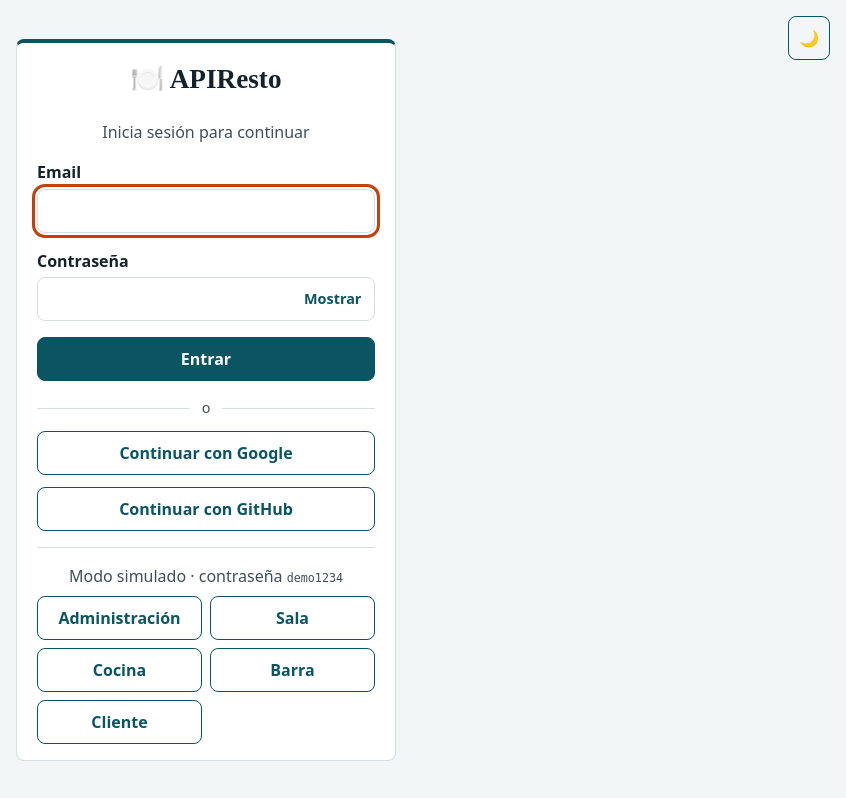
Test: login y navegación por rol (modo simulado) › con contraseña incorrecta muestra un error y no entra
In the field labelled "Email": (206, 211) [37, 189, 375, 233], type "admin@restoapi.dev"
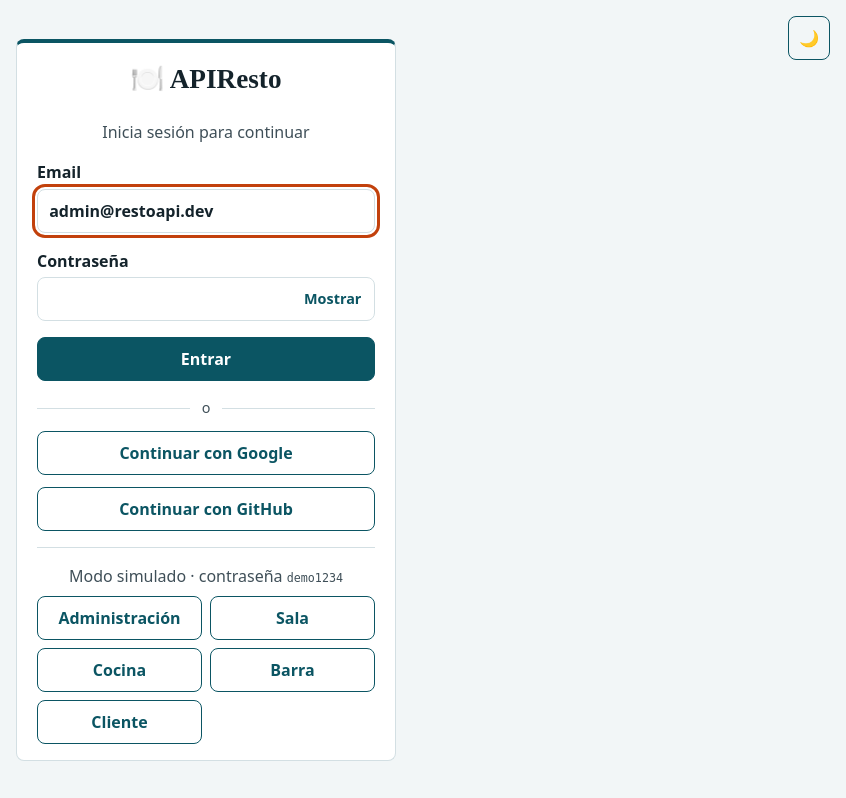
In the password field labelled "Contraseña": (206, 299) [37, 277, 375, 321], type "mala"
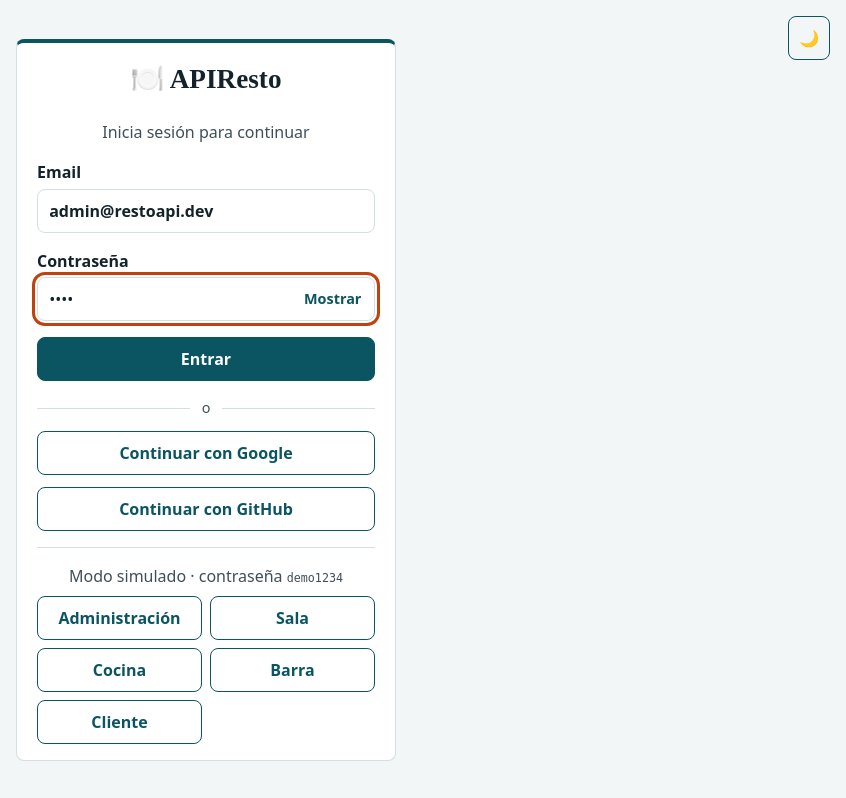
Click the button "Entrar": (206, 359) [37, 337, 375, 381]
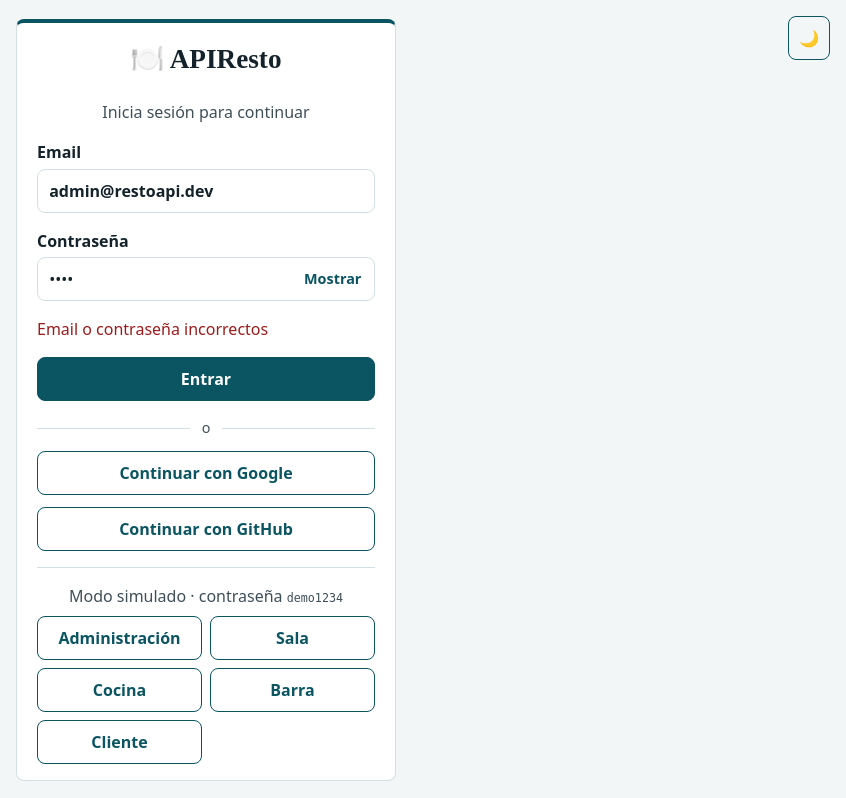
Result: the message reads "Email o contraseña incorrectos" at [37, 318, 268, 340]
